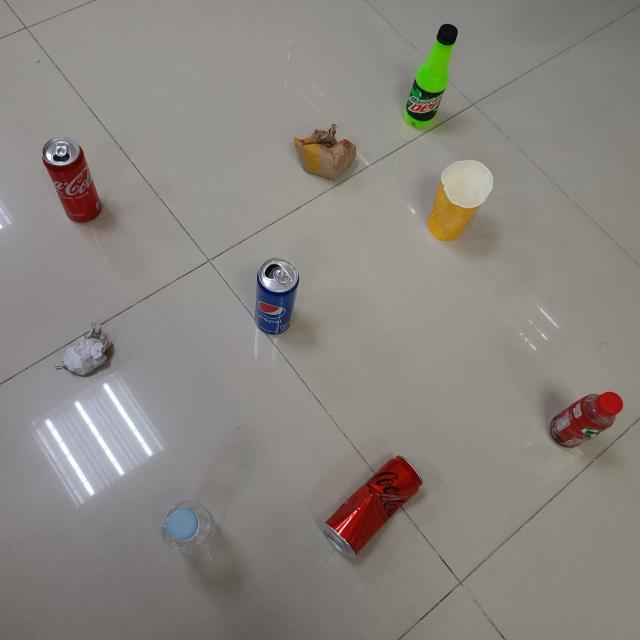recyclable waste: (315, 449, 429, 564), (400, 19, 462, 133), (422, 154, 498, 246), (37, 130, 106, 228), (544, 386, 628, 453), (250, 252, 304, 340), (288, 120, 361, 182), (50, 318, 118, 382), (156, 493, 220, 561)
